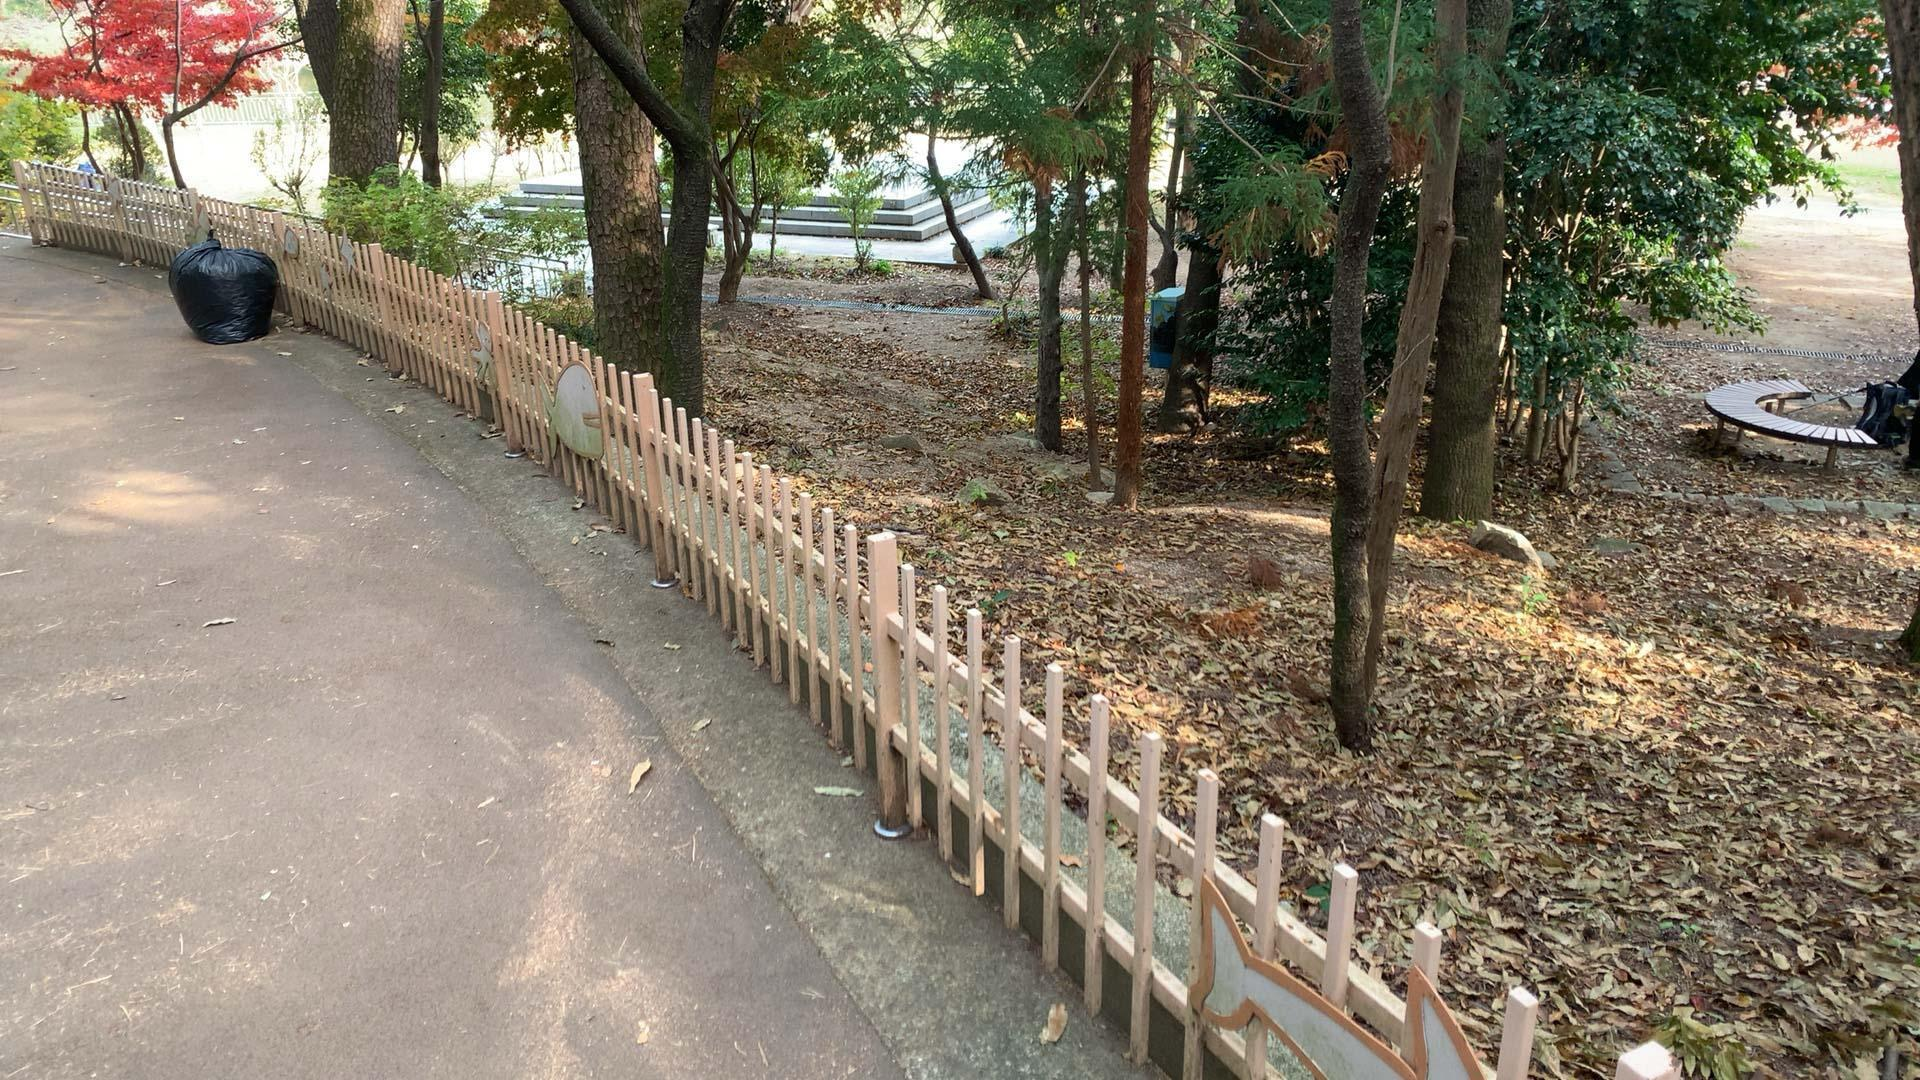black_bag: (158, 225, 281, 348)
